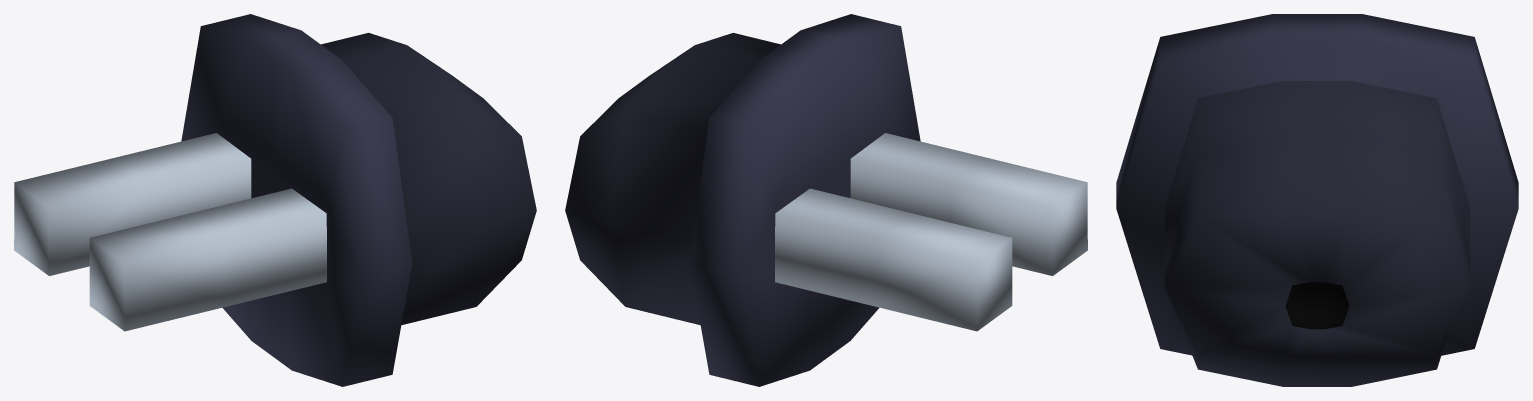
File: plug.fbx
The picture shows the model from 3 angles, left to right: view 1: azimuth 30°, elevation 25°; view 2: azimuth 150°, elevation 25°; view 3: azimuth 270°, elevation 25°; orthographic projection. The views are drawn at different scales.
Parts seen in each view (by area): view 1: plug; view 2: plug; view 3: plug.
Part boxes in pixels (<box>): plug: <box>14,14,536,386</box>; plug: <box>565,14,1087,386</box>; plug: <box>1116,14,1518,386</box>.
Bounding box in the file's own units: 112 × 155 × 102.
